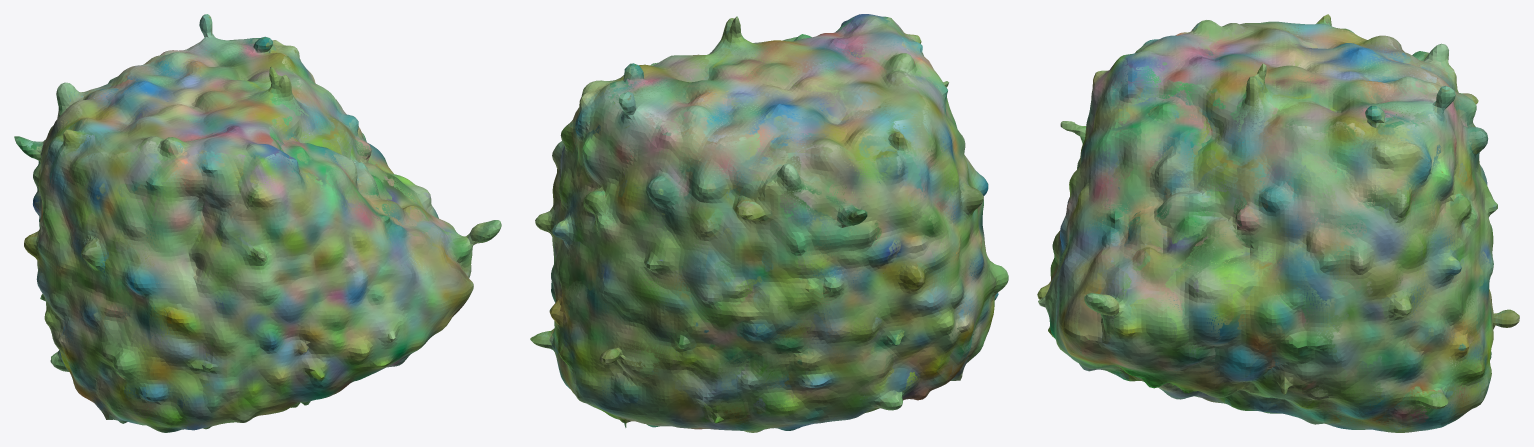
Rendered from snow.glb.
The picture shows the model from 3 angles, left to right: view 1: azimuth 30°, elevation 25°; view 2: azimuth 150°, elevation 25°; view 3: azimuth 270°, elevation 25°; orthographic projection. The views are drawn at different scales.
Bounding box in the file's own units: 1.4 × 1.18 × 1.45.
1 material, 1 textured.
